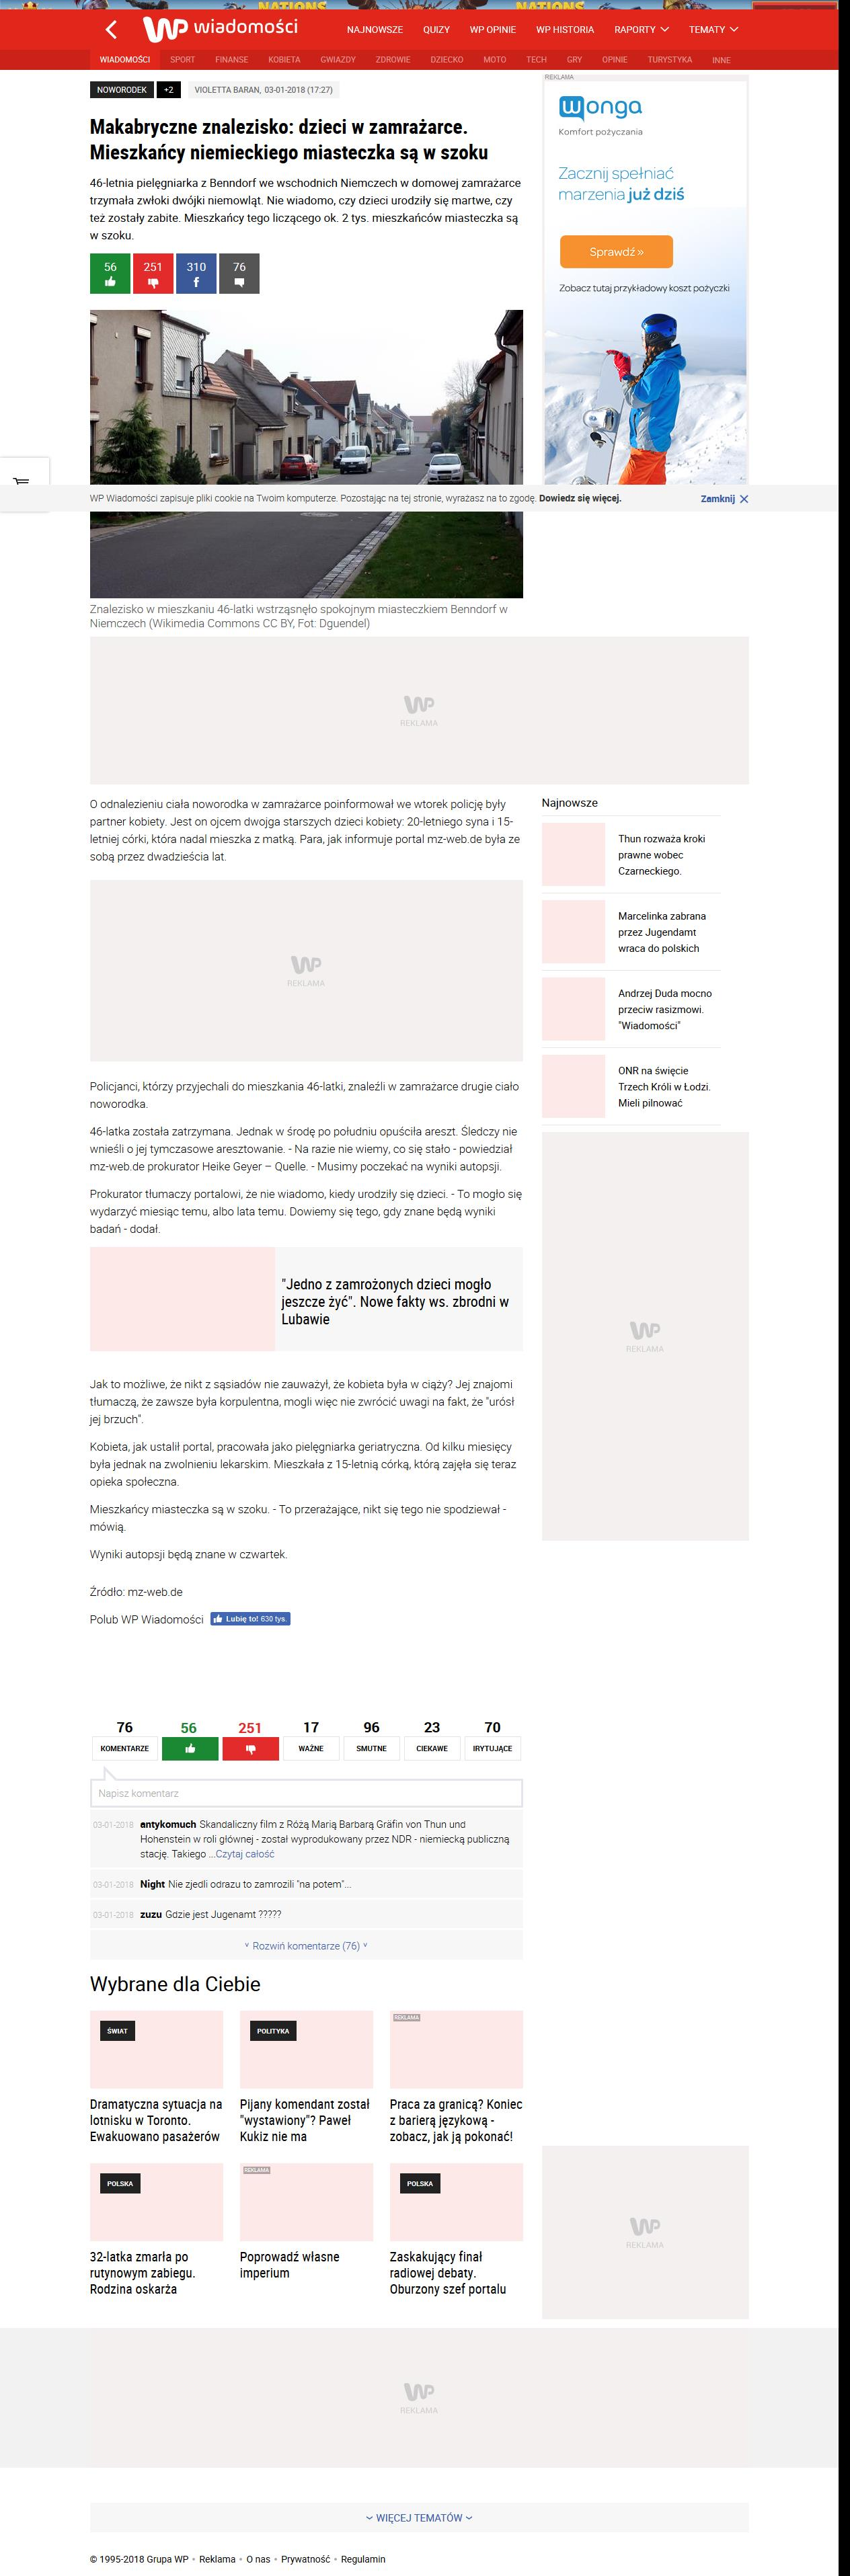title: (90, 118, 488, 163)
